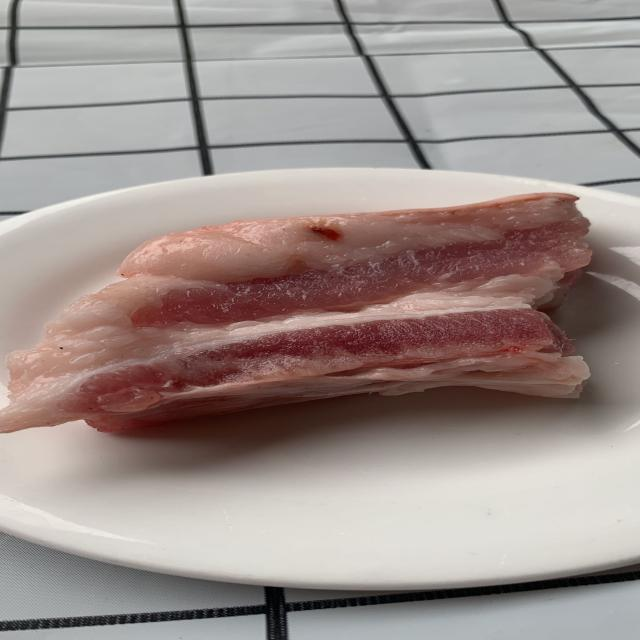chicken: (0, 187, 604, 430)
